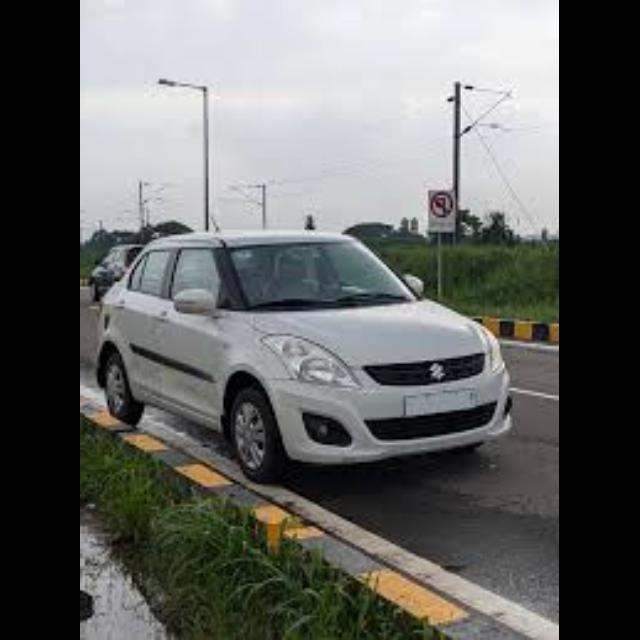vehicles: (95, 225, 525, 487)
